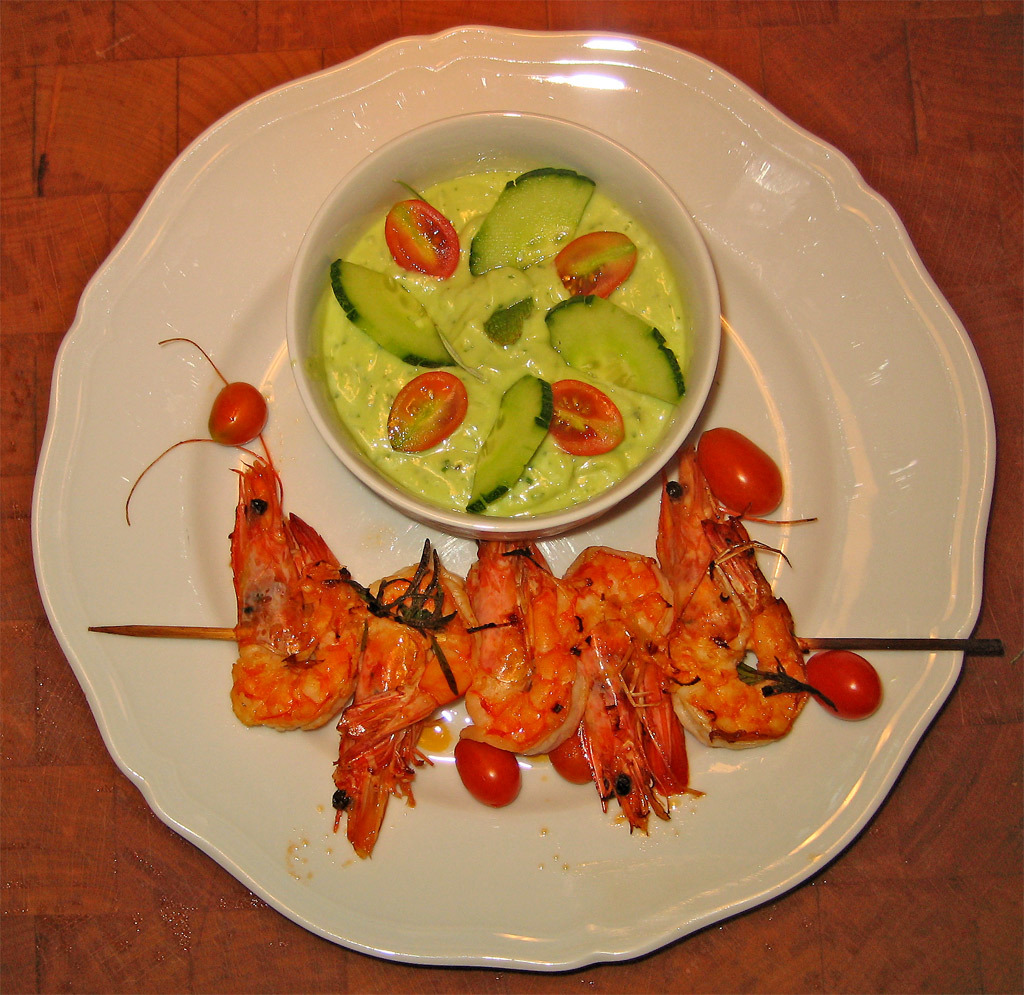plate: (26, 165, 963, 988)
